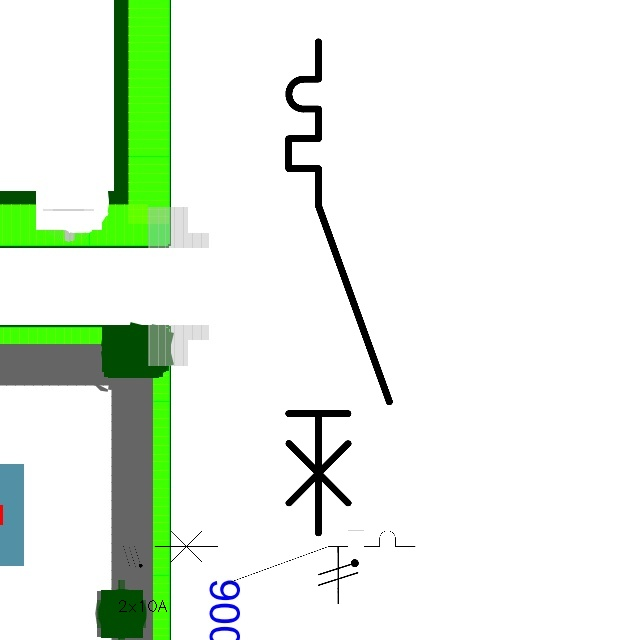interruptor_termomagnetico: (276, 29, 402, 545), (148, 524, 422, 591)
